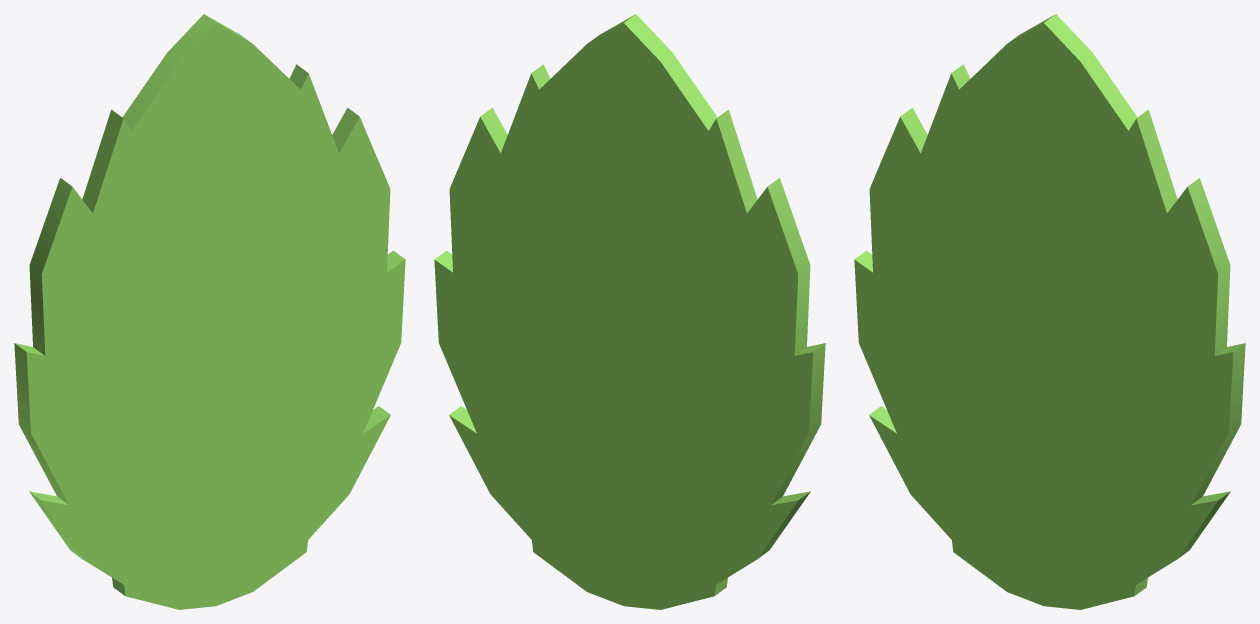
File: Mint.gltf
3 renders of one model, left to right at view 1: azimuth 30°, elevation 25°; view 2: azimuth 150°, elevation 25°; view 3: azimuth 330°, elevation 25°, orthographic.
Parts seen in each view (by area): view 1: Circle; view 2: Circle; view 3: Circle.
Part boxes in pixels (x1=…): Circle: x1=14, y1=14, x2=405, y2=609; Circle: x1=434, y1=14, x2=825, y2=609; Circle: x1=854, y1=14, x2=1245, y2=609.
Size of the model in its own units: 0.4459 by 0.6557 by 0.025.
